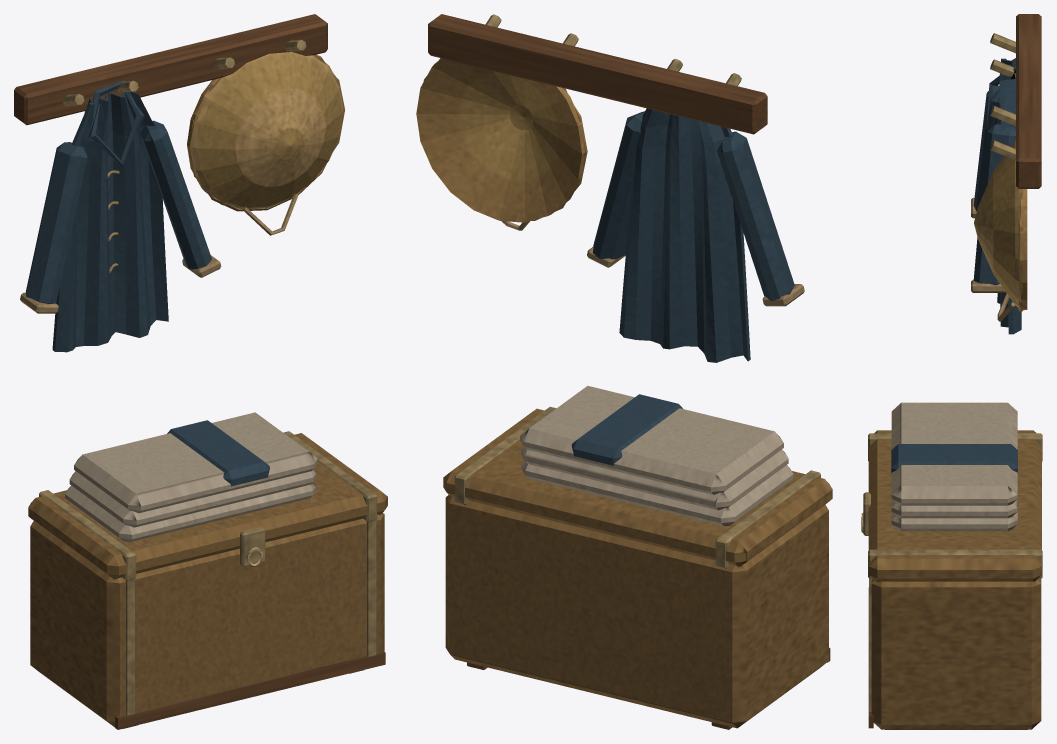
File: WakeClothesChest_LOD0.fbx
3 renders of one model, left to right at view 1: azimuth 30°, elevation 25°; view 2: azimuth 150°, elevation 25°; view 3: azimuth 270°, elevation 25°, orthographic. The views are drawn at different scales.
Visible parts, largest first — view 1: WakeClothesChest; view 2: WakeClothesChest; view 3: WakeClothesChest.
Part boxes in pixels (x1,y1,x2,y2): WakeClothesChest: (14,14,387,729); WakeClothesChest: (416,14,832,729); WakeClothesChest: (861,14,1042,729).
Bounding box in the file's own units: 1.03 × 1.75 × 0.4913.
1 material, 1 textured.
